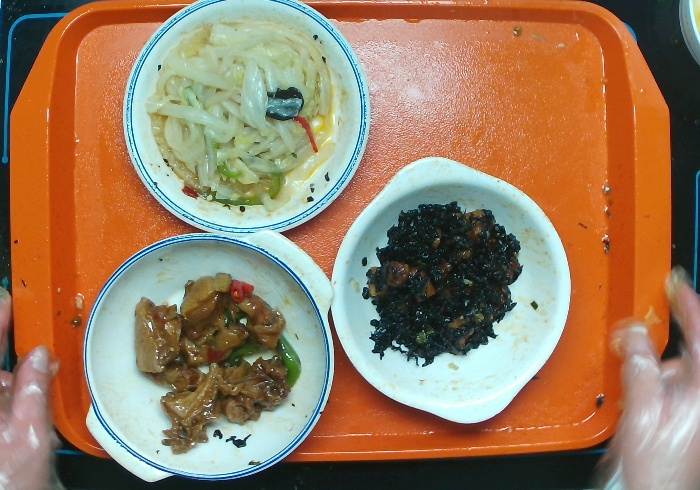HZYJPL-Dai_Er_Bai_Yuan_Wan: (325, 144, 582, 427)
HZYJPL-Lan_Bian_Dai_Er_Wan: (77, 218, 352, 490)
HZYJPL-Lan_Bian_Yuan_Die: (117, 1, 372, 243)
